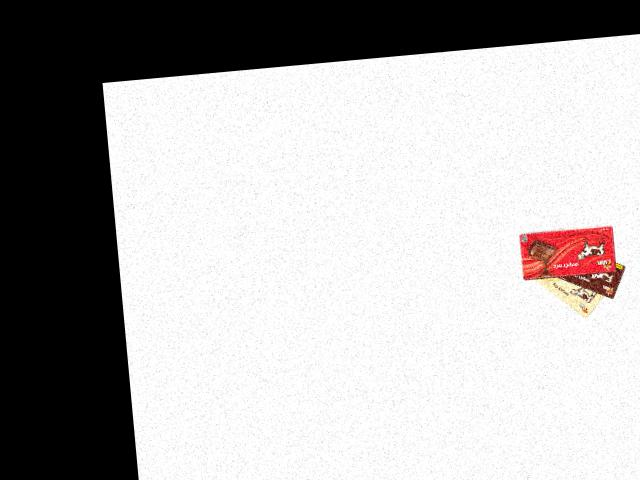chocolate: (525, 263, 616, 325)
